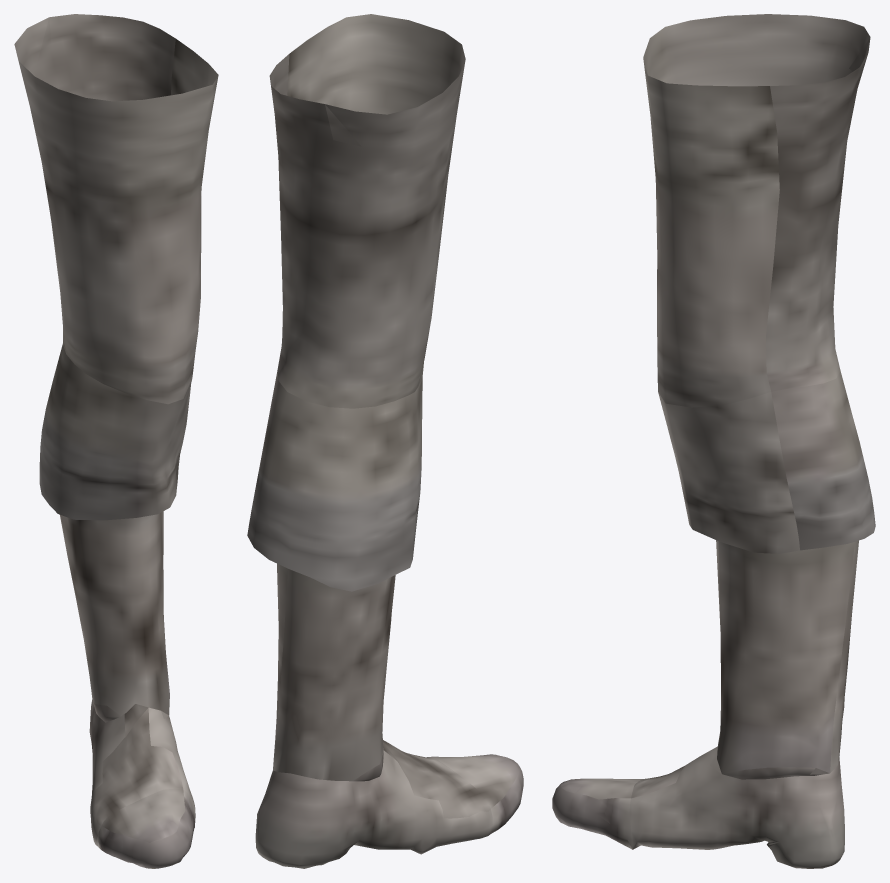
File: soldierrightleg.fbx
3 views of the same model, side by side, from view 1: azimuth 30°, elevation 25°; view 2: azimuth 150°, elevation 25°; view 3: azimuth 270°, elevation 25° (orthographic). The views are drawn at different scales.
Visible parts, largest first — view 1: Wehrmacht_soldier:objrShin1; view 2: Wehrmacht_soldier:objrShin1; view 3: Wehrmacht_soldier:objrShin1.
Part boxes in pixels (x1=…): Wehrmacht_soldier:objrShin1: x1=14, y1=14, x2=218, y2=868; Wehrmacht_soldier:objrShin1: x1=247, y1=14, x2=523, y2=868; Wehrmacht_soldier:objrShin1: x1=552, y1=14, x2=875, y2=868.
Size of the model in its own units: 0.2622 by 1.24 by 0.4504.
